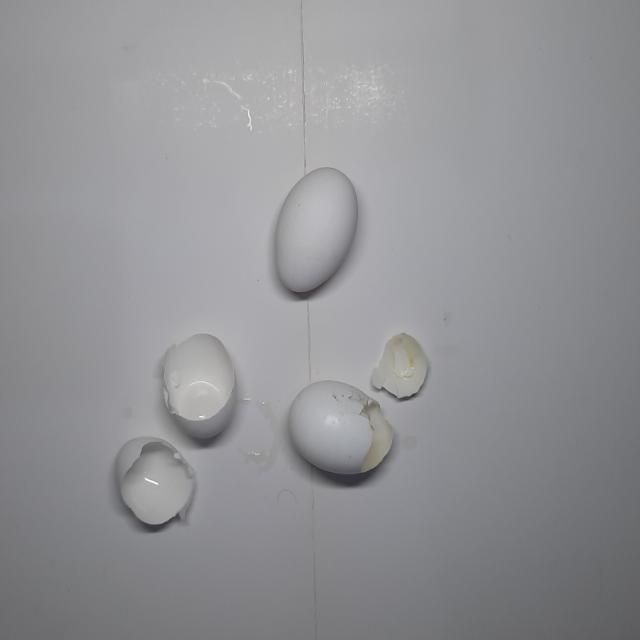egg shell: (274, 164, 360, 296), (286, 385, 402, 478), (159, 330, 239, 440), (114, 436, 197, 528), (371, 325, 432, 403)
